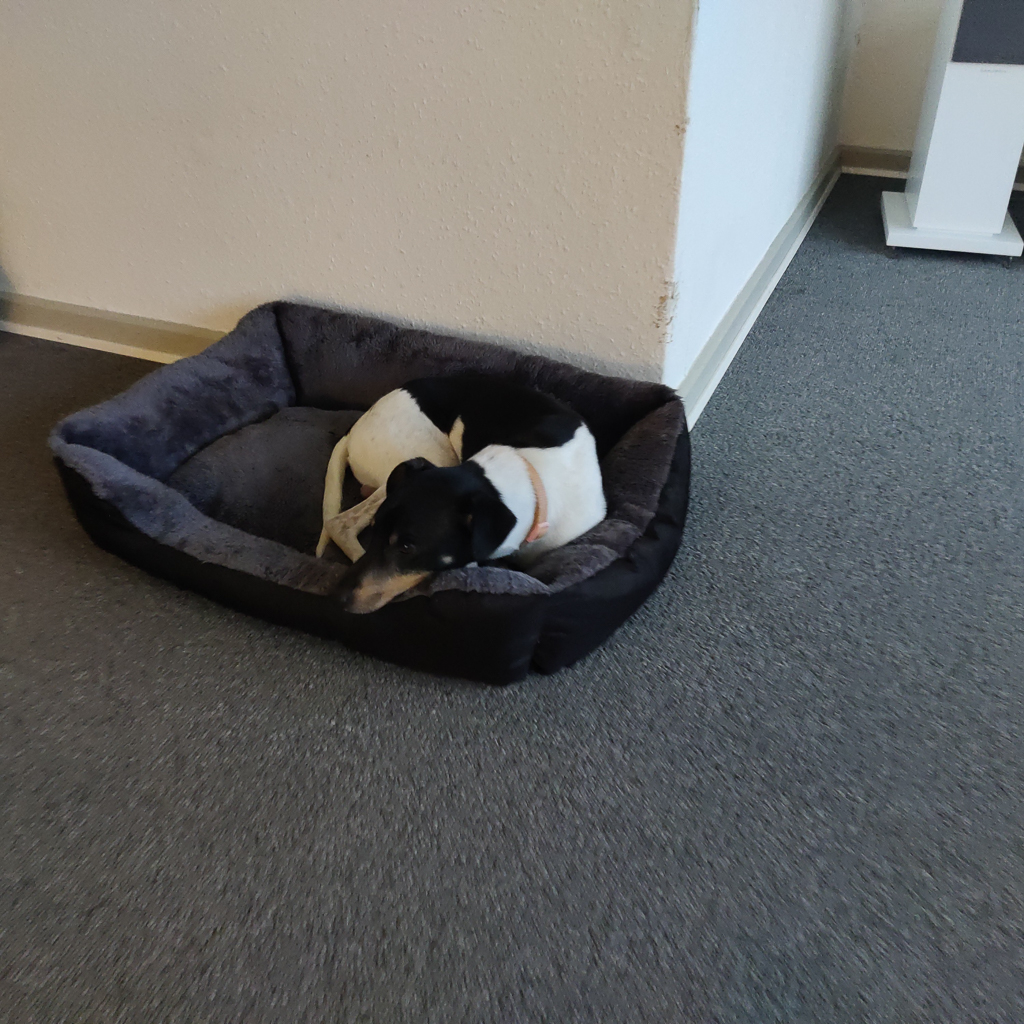Dog: (289, 360, 618, 629)
